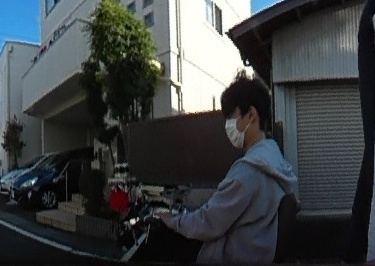person: (179, 76, 294, 266)
